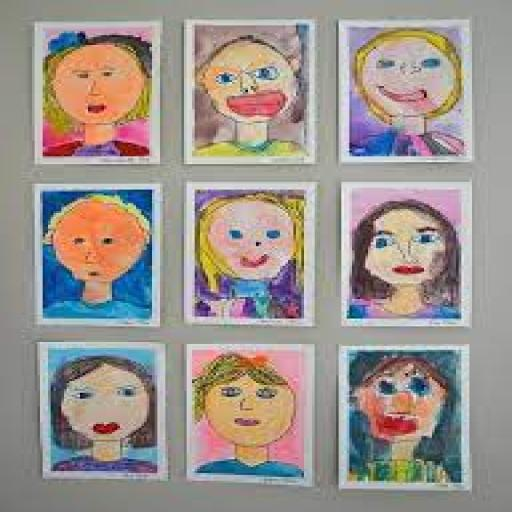person: (345, 26, 463, 162), (191, 27, 307, 162), (196, 350, 310, 480), (348, 188, 460, 320), (41, 189, 153, 320), (192, 194, 306, 317), (352, 352, 456, 486), (42, 34, 153, 156), (48, 349, 156, 472)
